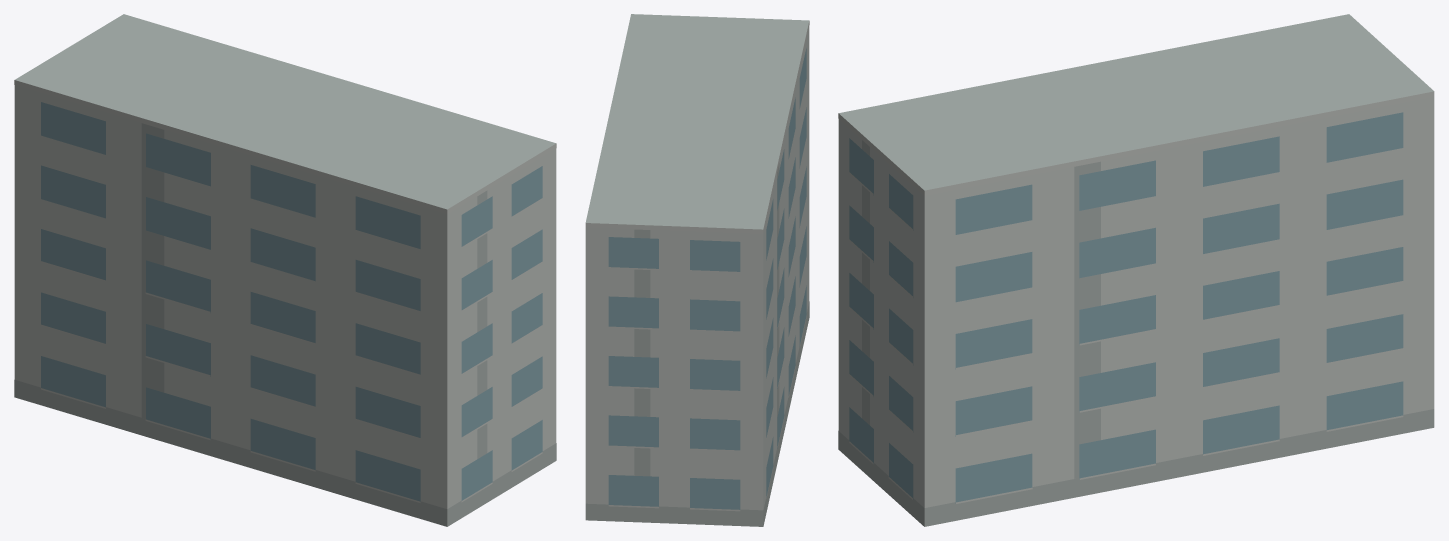
The model's file is survey-upis-32673131.glb.
3 views of the same model, side by side, from view 1: azimuth 30°, elevation 25°; view 2: azimuth 150°, elevation 25°; view 3: azimuth 270°, elevation 25° (orthographic). The views are drawn at different scales.
Parts seen in each view (by area): view 1: survey-upis-32673131.tmp; view 2: survey-upis-32673131.tmp; view 3: survey-upis-32673131.tmp.
Part boxes in pixels (x1,y1,x2,y2): survey-upis-32673131.tmp: [14, 14, 556, 526]; survey-upis-32673131.tmp: [585, 14, 809, 526]; survey-upis-32673131.tmp: [838, 14, 1434, 526].
Bounding box in the file's own units: 17.18 × 15.25 × 24.5.
